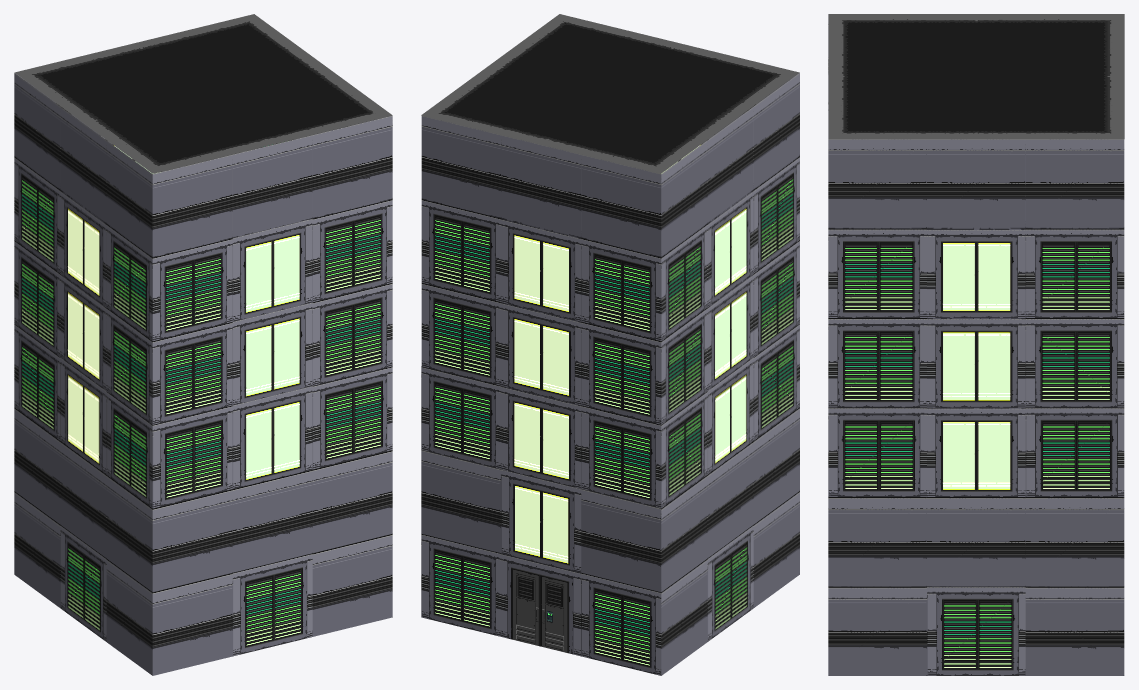
Rendered from 4_story.FBX.
The picture shows the model from 3 angles, left to right: view 1: azimuth 30°, elevation 25°; view 2: azimuth 150°, elevation 25°; view 3: azimuth 270°, elevation 25°; orthographic projection. The views are drawn at different scales.
Parts seen in each view (by area): view 1: 4story_top, 4story_btm, roof; view 2: 4story_top, 4story_btm, roof; view 3: 4story_top, 4story_btm, roof.
Part boxes in pixels (<box>): 4story_top: <box>14,72,392,424</box>; 4story_btm: <box>14,324,392,675</box>; roof: <box>15,14,392,173</box>; 4story_top: <box>421,72,799,424</box>; 4story_btm: <box>421,324,799,675</box>; roof: <box>421,14,798,173</box>; 4story_top: <box>828,14,1124,407</box>; 4story_btm: <box>828,407,1124,675</box>; roof: <box>828,14,1124,139</box>.
Bounding box in the file's own units: 147 × 294 × 147.
2 materials, 2 textured.
